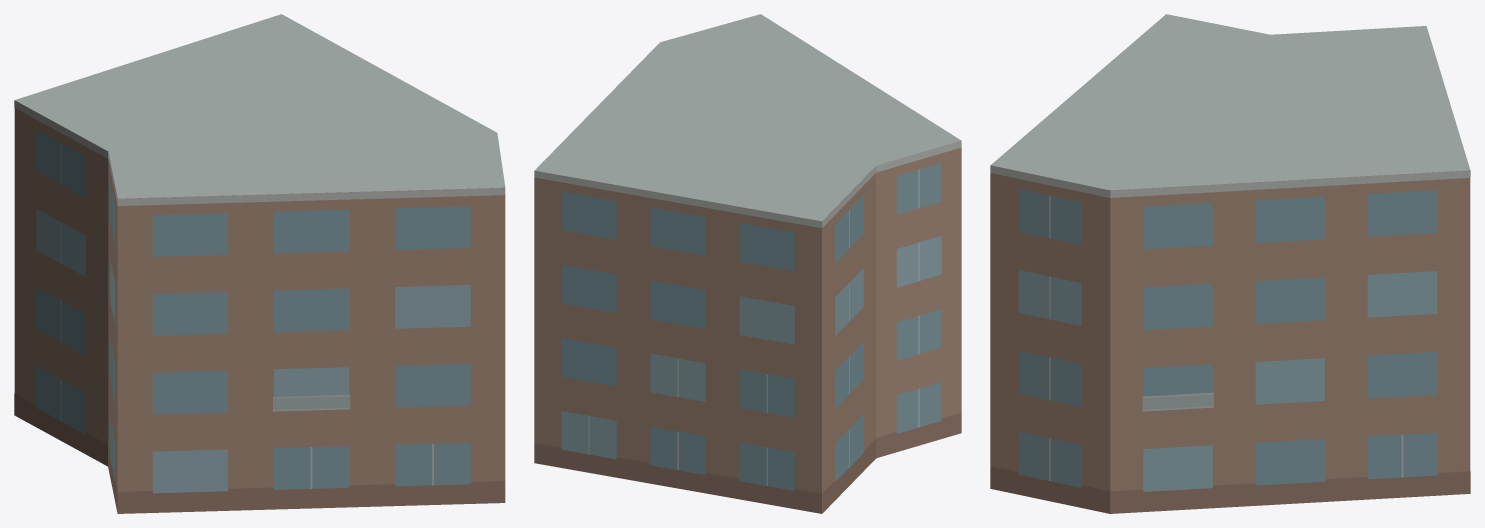
Rendered from survey-upis-32531899.glb.
The picture shows the model from 3 angles, left to right: view 1: azimuth 30°, elevation 25°; view 2: azimuth 150°, elevation 25°; view 3: azimuth 270°, elevation 25°; orthographic projection. The views are drawn at different scales.
Visible parts, largest first — view 1: survey-upis-32531899.tmp; view 2: survey-upis-32531899.tmp; view 3: survey-upis-32531899.tmp.
Boxes of the visible parts, bbox=[...] form: survey-upis-32531899.tmp: bbox=[14, 14, 505, 513]; survey-upis-32531899.tmp: bbox=[534, 14, 961, 513]; survey-upis-32531899.tmp: bbox=[990, 14, 1470, 513].
Bounding box in the file's own units: 12.14 × 10.37 × 13.96.
